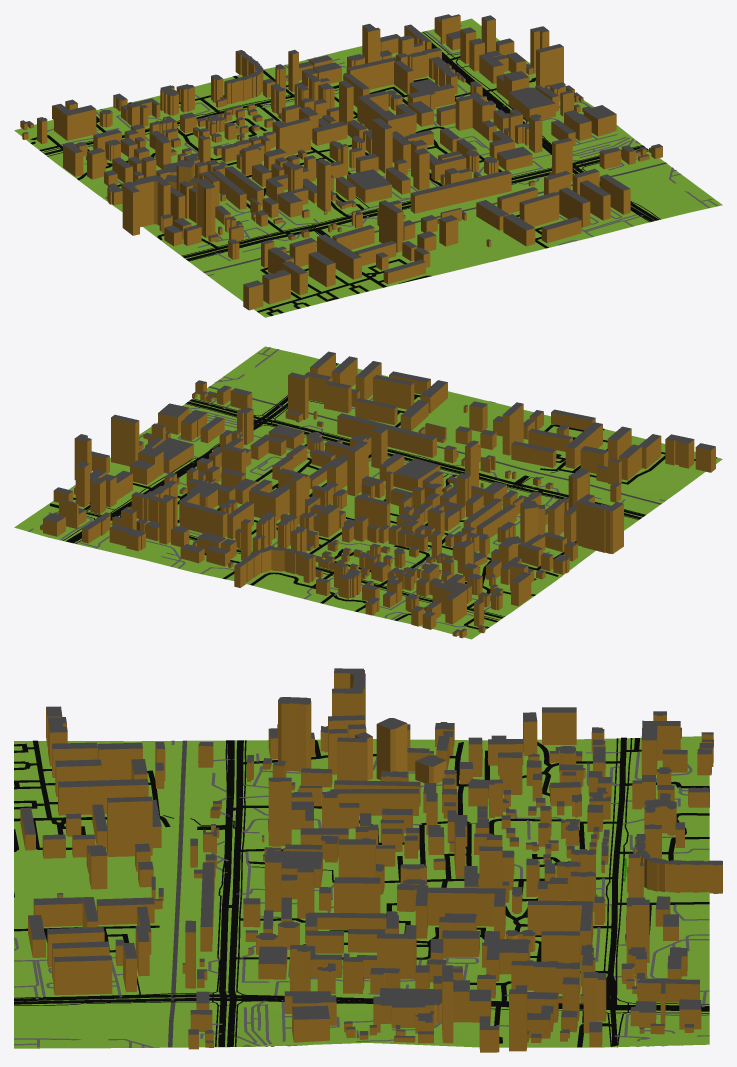
Rendered from tile_07_03.glb.
The picture shows the model from 3 angles, top to bottom: view 1: azimuth 30°, elevation 25°; view 2: azimuth 150°, elevation 25°; view 3: azimuth 270°, elevation 25°; orthographic projection. The views are drawn at different scales.
Parts seen in each view (by area): view 1: Ub_small.osm_buildings_07_03, Terrain_07_03, Ub_small.osm_roads_residential_07_03, Ub_small.osm_roads_service_07_03, Ub_small.osm_roads_primary_07_03, Ub_small.osm_paths_footway_07_03; view 2: Ub_small.osm_buildings_07_03, Terrain_07_03, Ub_small.osm_roads_primary_07_03, Ub_small.osm_roads_residential_07_03, Ub_small.osm_roads_service_07_03, Ub_small.osm_paths_footway_07_03, Ub_small.osm_railways_07_03; view 3: Ub_small.osm_buildings_07_03, Terrain_07_03, Ub_small.osm_roads_residential_07_03, Ub_small.osm_roads_primary_07_03, Ub_small.osm_roads_service_07_03, Ub_small.osm_paths_footway_07_03, Ub_small.osm_roads_secondary_07_03, Ub_small.osm_railways_07_03, Ub_small.osm_roads_tertiary_07_03.
Boxes of the visible parts, x1=… form: Ub_small.osm_buildings_07_03: x1=20, y1=14, x2=662, y2=310; Terrain_07_03: x1=14, y1=18, x2=722, y2=317; Ub_small.osm_roads_residential_07_03: x1=30, y1=75, x2=548, y2=315; Ub_small.osm_roads_service_07_03: x1=47, y1=25, x2=718, y2=275; Ub_small.osm_roads_primary_07_03: x1=182, y1=42, x2=659, y2=260; Ub_small.osm_paths_footway_07_03: x1=42, y1=31, x2=660, y2=286; Ub_small.osm_buildings_07_03: x1=40, y1=351, x2=715, y2=638; Terrain_07_03: x1=14, y1=346, x2=722, y2=639; Ub_small.osm_roads_primary_07_03: x1=66, y1=363, x2=645, y2=543; Ub_small.osm_roads_residential_07_03: x1=73, y1=394, x2=716, y2=629; Ub_small.osm_roads_service_07_03: x1=28, y1=347, x2=665, y2=627; Ub_small.osm_paths_footway_07_03: x1=50, y1=363, x2=645, y2=620; Ub_small.osm_railways_07_03: x1=208, y1=386, x2=661, y2=504; Ub_small.osm_buildings_07_03: x1=20, y1=668, x2=722, y2=1052; Terrain_07_03: x1=14, y1=736, x2=709, y2=1048; Ub_small.osm_roads_residential_07_03: x1=14, y1=738, x2=709, y2=1047; Ub_small.osm_roads_primary_07_03: x1=14, y1=740, x2=709, y2=1046; Ub_small.osm_roads_service_07_03: x1=14, y1=740, x2=709, y2=1048; Ub_small.osm_paths_footway_07_03: x1=14, y1=738, x2=709, y2=1047; Ub_small.osm_roads_secondary_07_03: x1=606, y1=737, x2=626, y2=1008; Ub_small.osm_railways_07_03: x1=168, y1=740, x2=186, y2=1047; Ub_small.osm_roads_tertiary_07_03: x1=14, y1=754, x2=709, y2=1046.
Bounding box in the file's own units: 1029 × 103 × 948.
